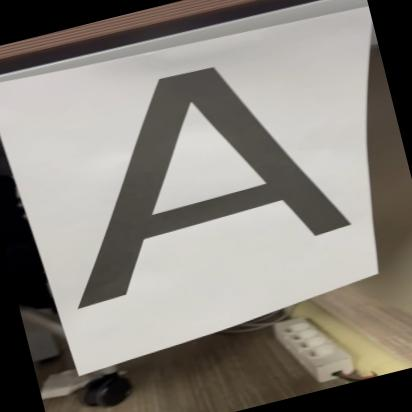seat: (23, 29, 372, 327)
